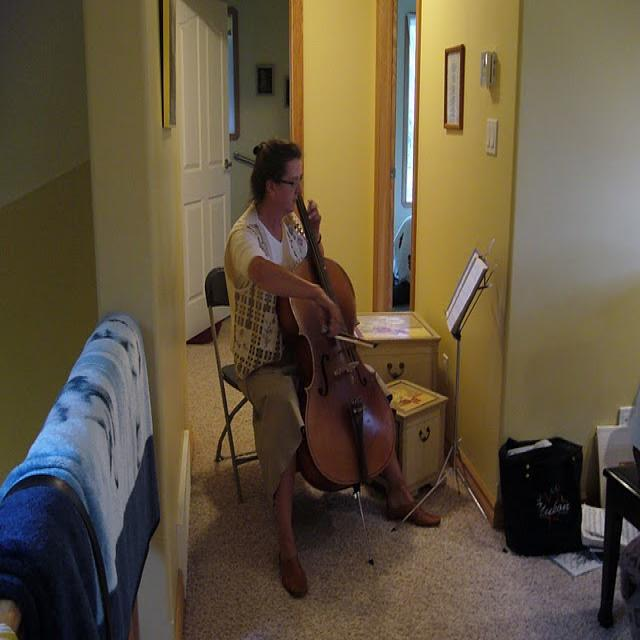cello: (278, 196, 399, 494)
